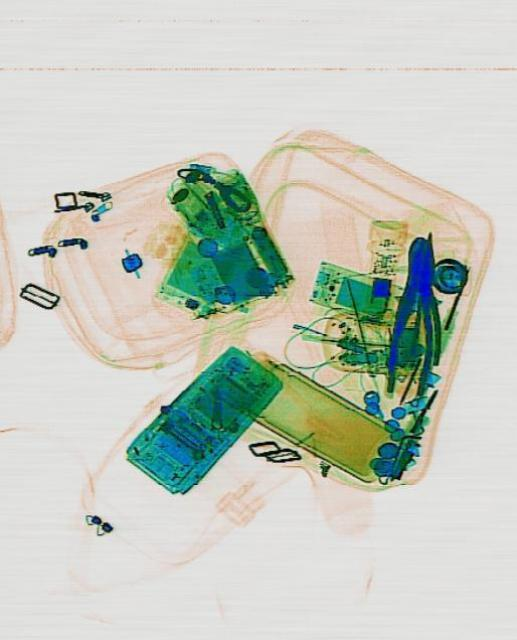Pliers: (380, 228, 446, 400), (383, 233, 448, 369)
